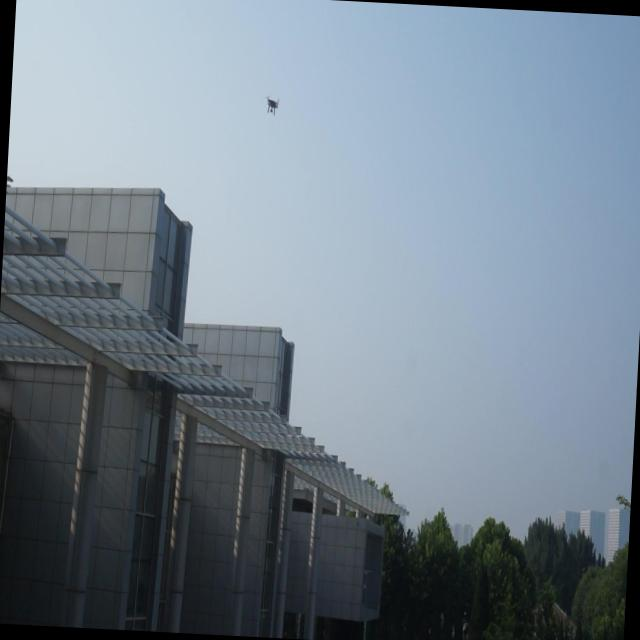drone: (263, 92, 283, 118)
